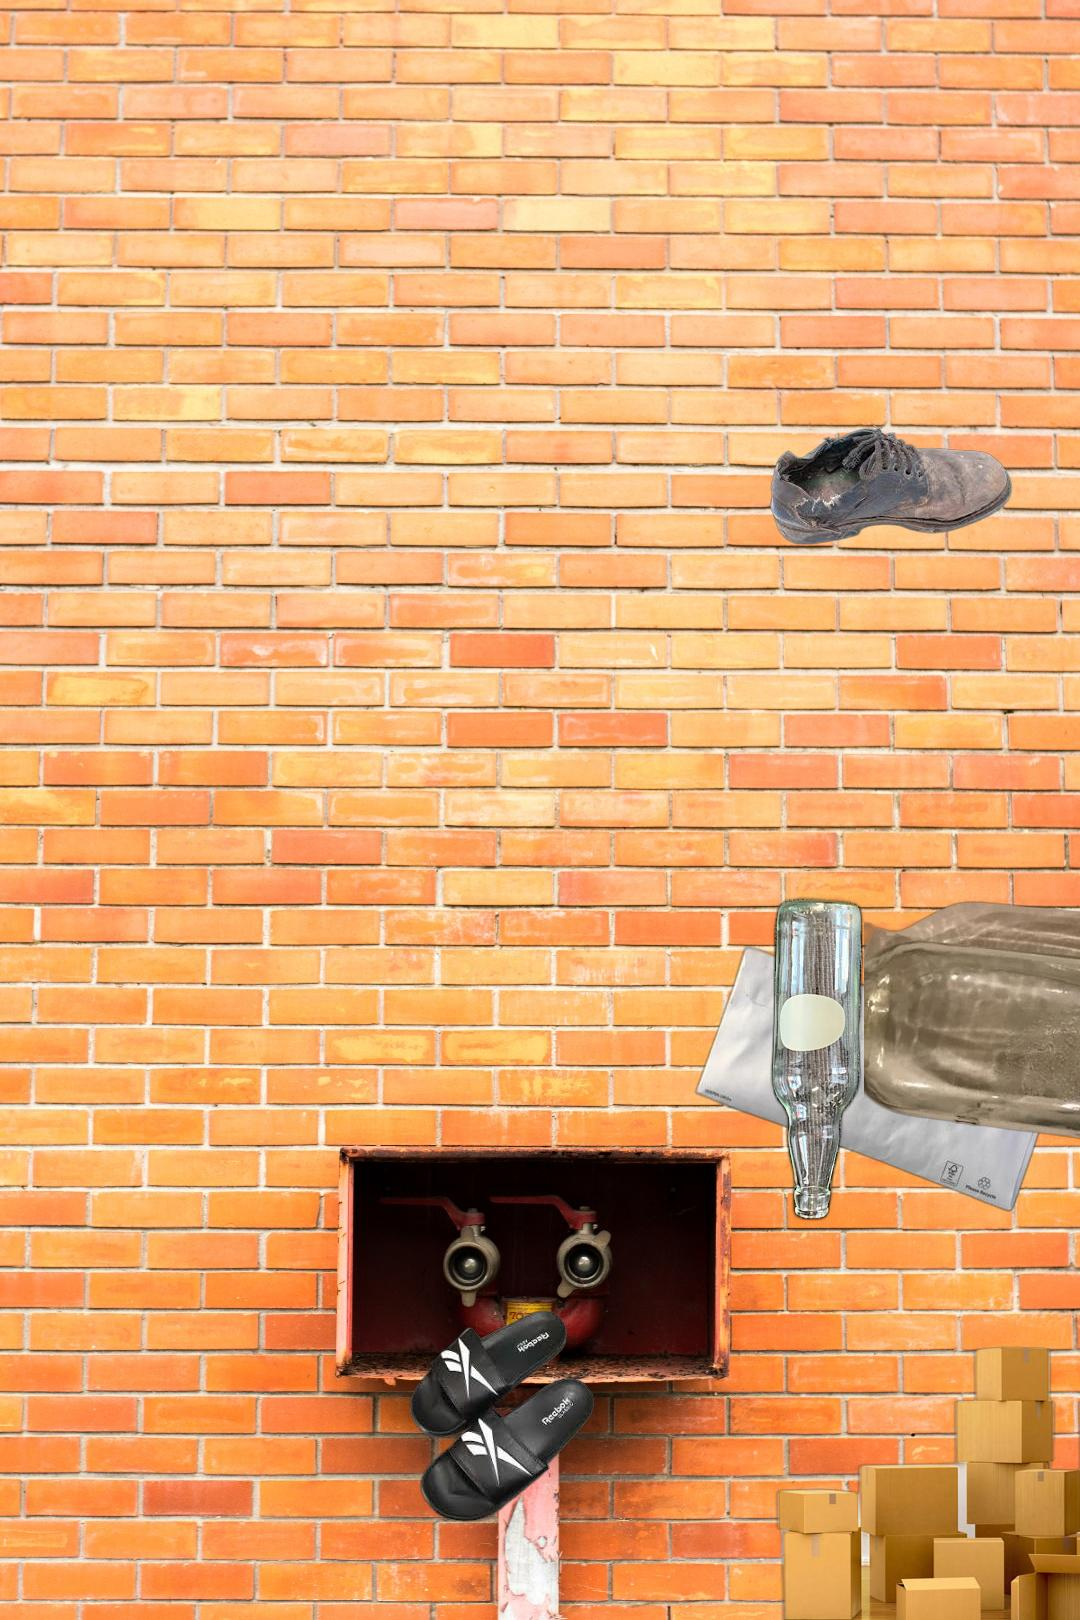glass: (864, 899, 1080, 1161), (767, 892, 867, 1226)
paper: (691, 943, 1074, 1215)
shoes: (407, 1308, 597, 1524), (768, 421, 1014, 547)
trashbox-cardboard: (770, 1345, 1080, 1620)
